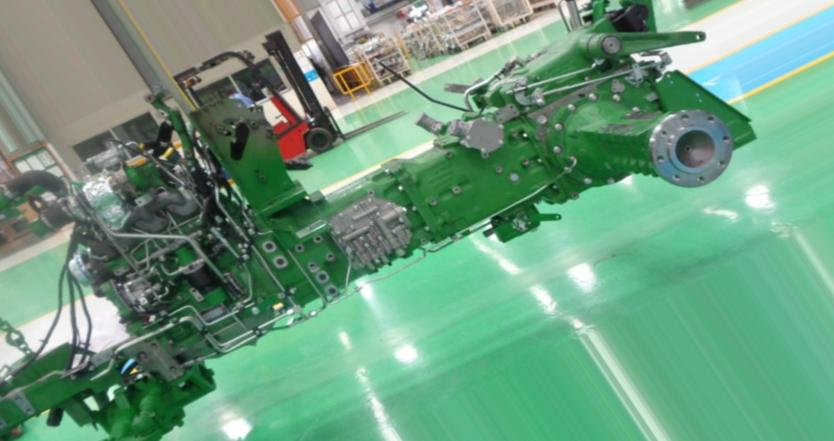engine: (0, 0, 761, 441)
